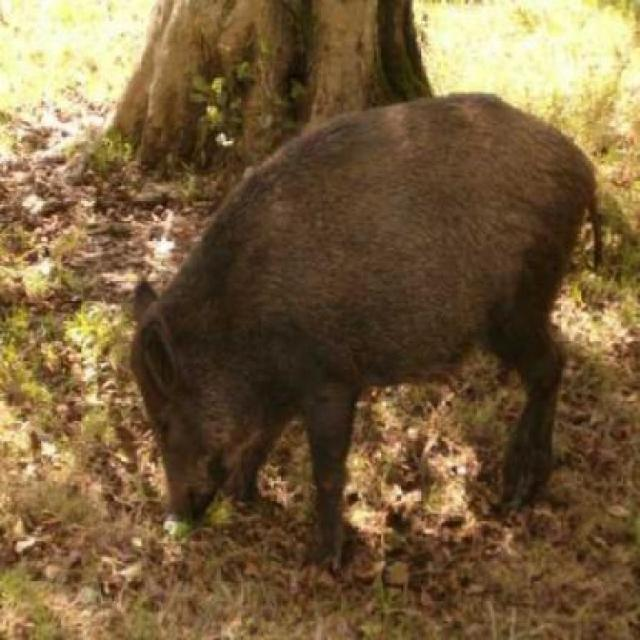pig: (66, 85, 639, 569)
